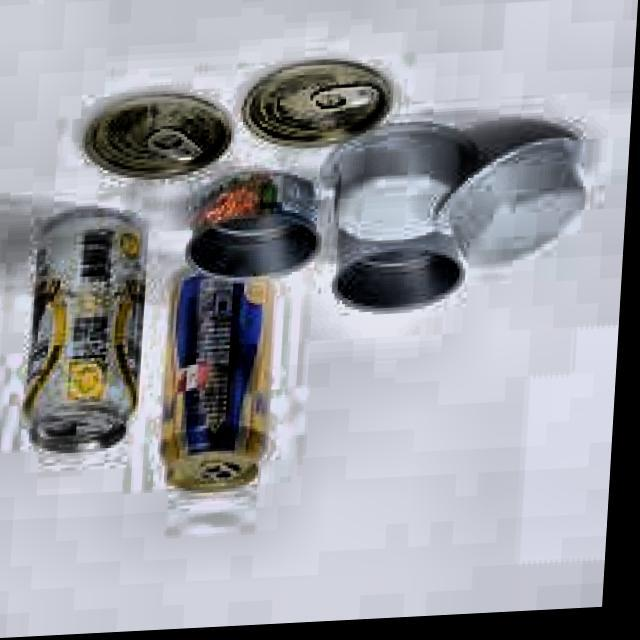Aluminum Can: (23, 198, 160, 467), (157, 259, 288, 509), (184, 167, 330, 294), (239, 46, 399, 160), (71, 86, 242, 192), (328, 215, 478, 334)
